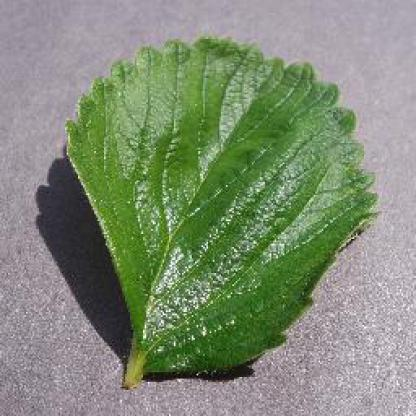healthy: (60, 26, 390, 400)
